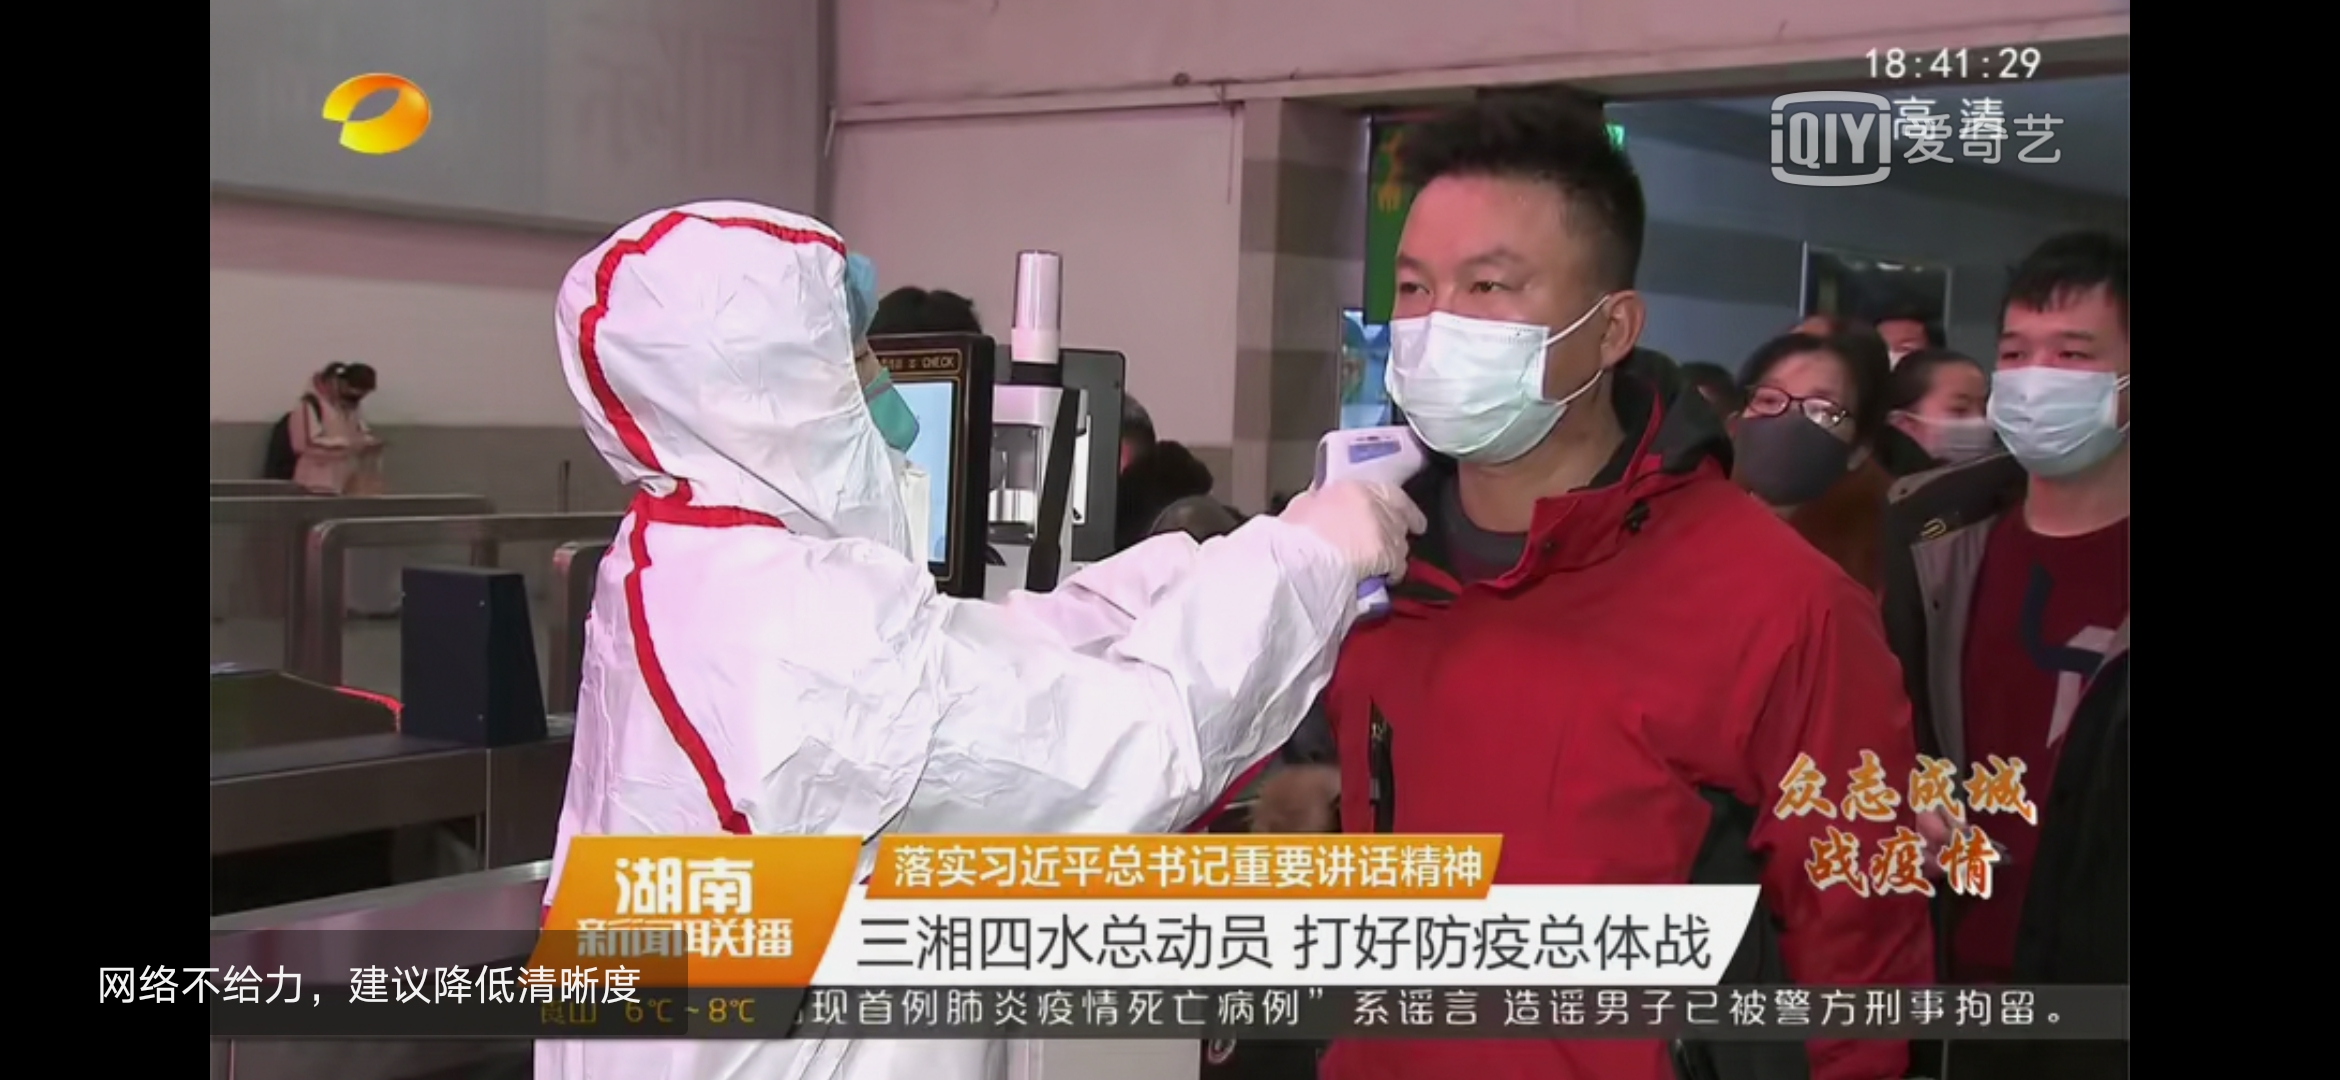correctlyWear: (1383, 213, 1645, 456), (795, 274, 922, 462), (1989, 325, 2131, 489), (1727, 370, 1856, 498), (1889, 380, 1985, 471), (342, 376, 370, 404)
